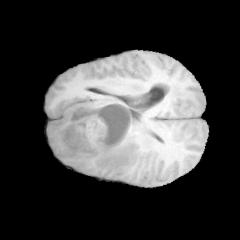glioma: (56, 98, 140, 176)
